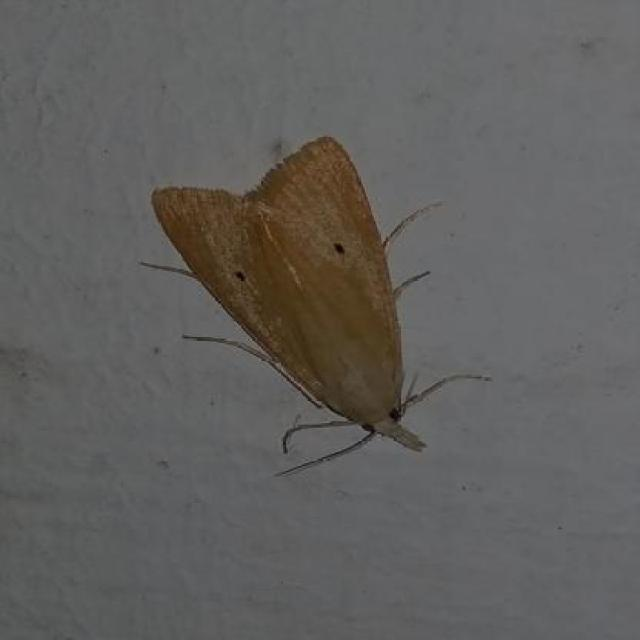stem-borer: (132, 130, 502, 482)
